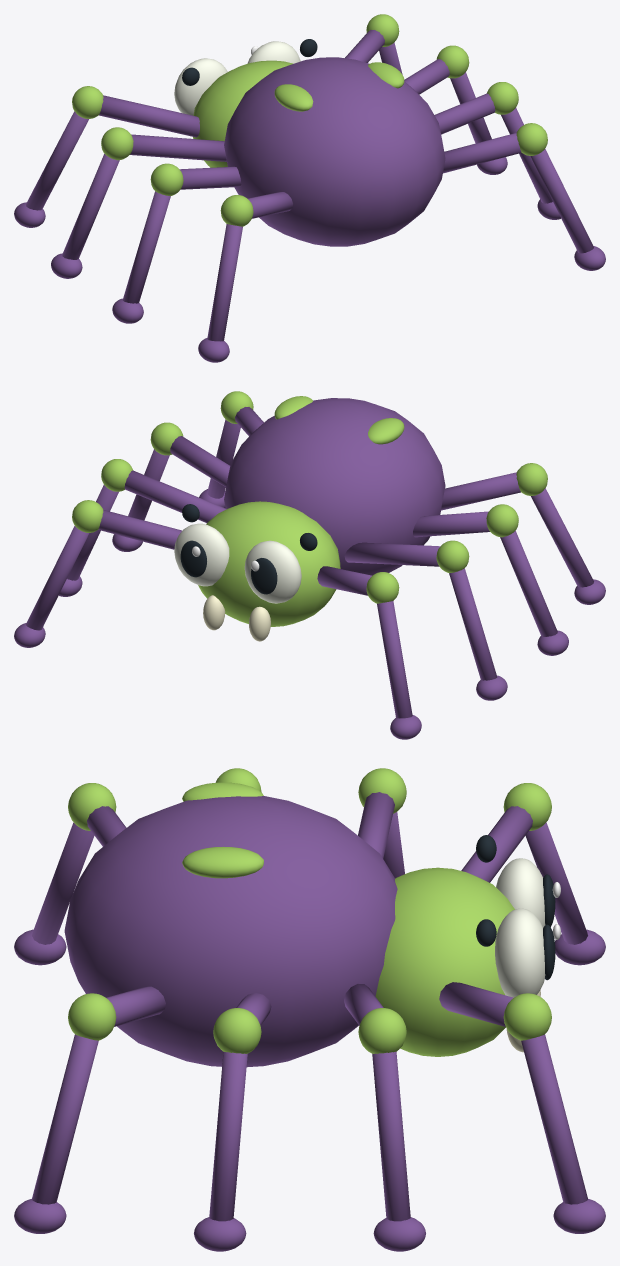
The model's file is ClubhouseSpider.fbx.
3 renders of one model, top to bottom at view 1: azimuth 30°, elevation 25°; view 2: azimuth 150°, elevation 25°; view 3: azimuth 270°, elevation 25°, orthographic. The views are drawn at different scales.
Visible parts, largest first — view 1: VelvetAbdomen, GreenHead, Thigh1, Shin4, Thigh2, Shin3, Shin2, Shin8, Shin1, Thigh8, EyeWhite-1, Thigh7 (+22 smaller); view 2: VelvetAbdomen, GreenHead, EyeWhite-1, Shin1, EyeWhite1, Shin2, Shin3, Thigh2, Shin5, Thigh6, Shin4, Thigh5 (+27 smaller); view 3: VelvetAbdomen, GreenHead, Shin5, Shin8, Shin6, Shin7, EyeWhite1, Shin4, Shin1, Thigh1, BackSpot2, EyeWhite-1 (+20 smaller).
Boxes of the visible parts, box(x1,y1,x2,y2) form: VelvetAbdomen: box(224, 57, 445, 246); GreenHead: box(193, 60, 293, 167); Thigh1: box(99, 95, 199, 137); Shin4: box(207, 224, 242, 341); Thigh2: box(130, 134, 226, 161); Shin3: box(122, 191, 170, 303); Shin2: box(62, 154, 119, 259); Shin8: box(530, 149, 593, 253); Shin1: box(26, 111, 88, 210); Thigh8: box(443, 133, 521, 173); EyeWhite-1: box(174, 58, 227, 115); Thigh7: box(434, 93, 495, 134); VelvetAbdomen: box(224, 398, 445, 575); GreenHead: box(198, 501, 340, 626); EyeWhite-1: box(244, 540, 301, 603); Shin1: box(377, 601, 412, 718); EyeWhite1: box(174, 523, 229, 586); Shin2: box(449, 568, 497, 680); Shin3: box(500, 531, 557, 636); Thigh2: box(344, 542, 440, 566); Shin5: box(26, 526, 89, 630); Thigh6: box(124, 470, 226, 522); Shin4: box(531, 488, 593, 587); Thigh5: box(98, 510, 181, 549); VelvetAbdomen: box(64, 796, 397, 1067); GreenHead: box(375, 867, 514, 1056); Shin5: box(521, 1034, 587, 1204); Shin8: box(32, 1034, 98, 1204); Shin6: box(372, 1051, 410, 1221); Shin7: box(209, 1051, 247, 1221); EyeWhite1: box(495, 908, 545, 997); Shin4: box(32, 822, 94, 944); Shin1: box(525, 822, 587, 944); Thigh1: box(461, 806, 532, 882); BackSpot2: box(182, 846, 263, 878); EyeWhite-1: box(496, 858, 545, 927).
Bounding box in the file's own units: 552 × 227 × 428.
